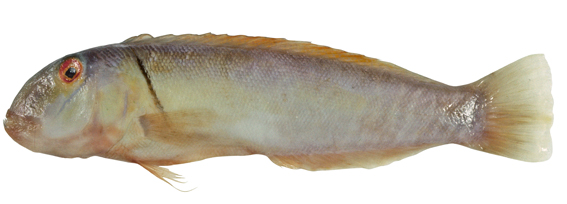fish: (3, 32, 554, 193)
